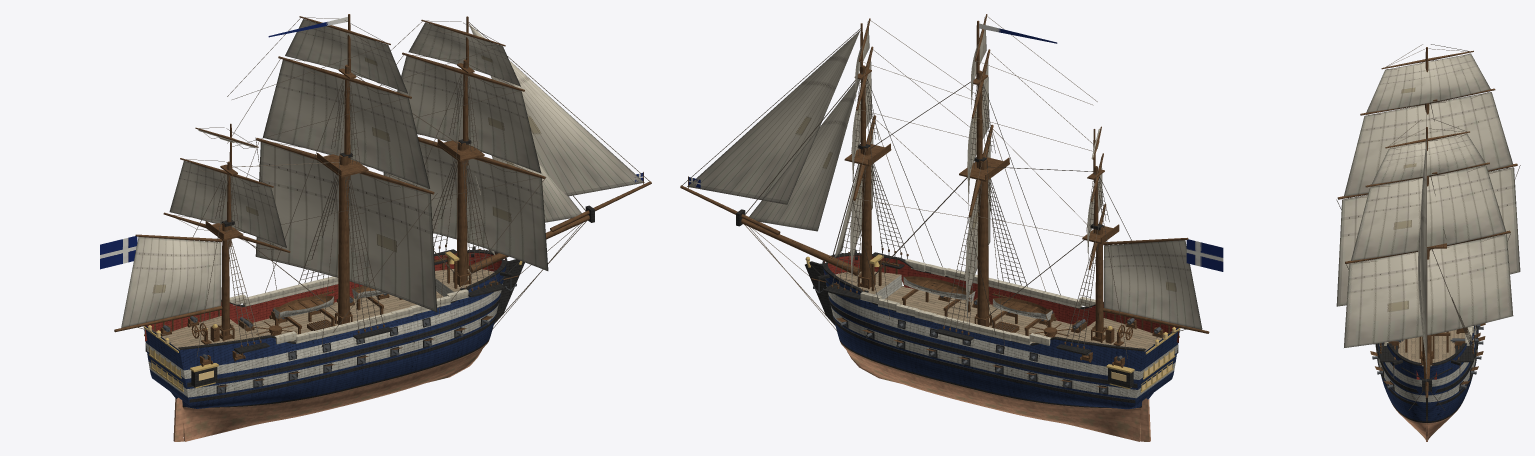
Rendered from frigate.glb.
3 views of the same model, side by side, from view 1: azimuth 30°, elevation 25°; view 2: azimuth 150°, elevation 25°; view 3: azimuth 270°, elevation 25° (orthographic). The views are drawn at different scales.
Visible parts, largest first — view 1: SM_Frigate; view 2: SM_Frigate; view 3: SM_Frigate.
Boxes of the visible parts, x1=… form: SM_Frigate: x1=100, y1=14, x2=651, y2=441; SM_Frigate: x1=680, y1=14, x2=1223, y2=441; SM_Frigate: x1=1336, y1=44, x2=1520, y2=441.
Size of the model in its own units: 51.2 by 29.7 by 14.27.
Materials: 16 (12 with a texture image).
